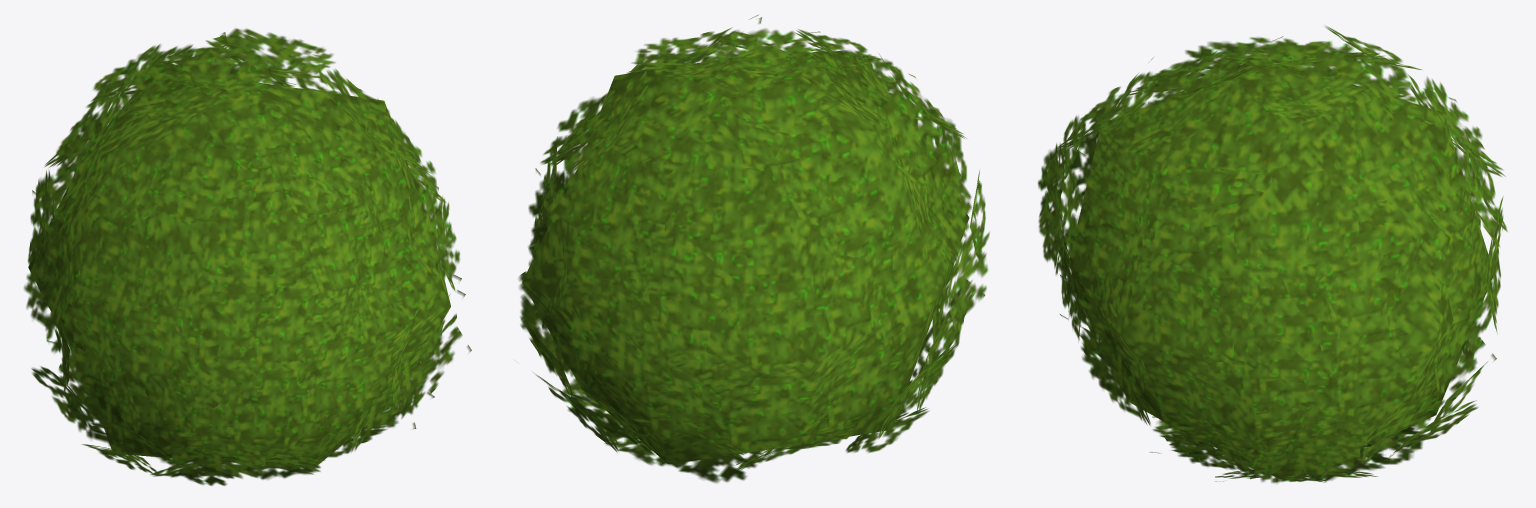
File: bush-0.glb
3 views of the same model, side by side, from view 1: azimuth 30°, elevation 25°; view 2: azimuth 150°, elevation 25°; view 3: azimuth 270°, elevation 25° (orthographic).
Size of the model in its own units: 0.9386 by 0.863 by 1.
1 material, 1 textured.
